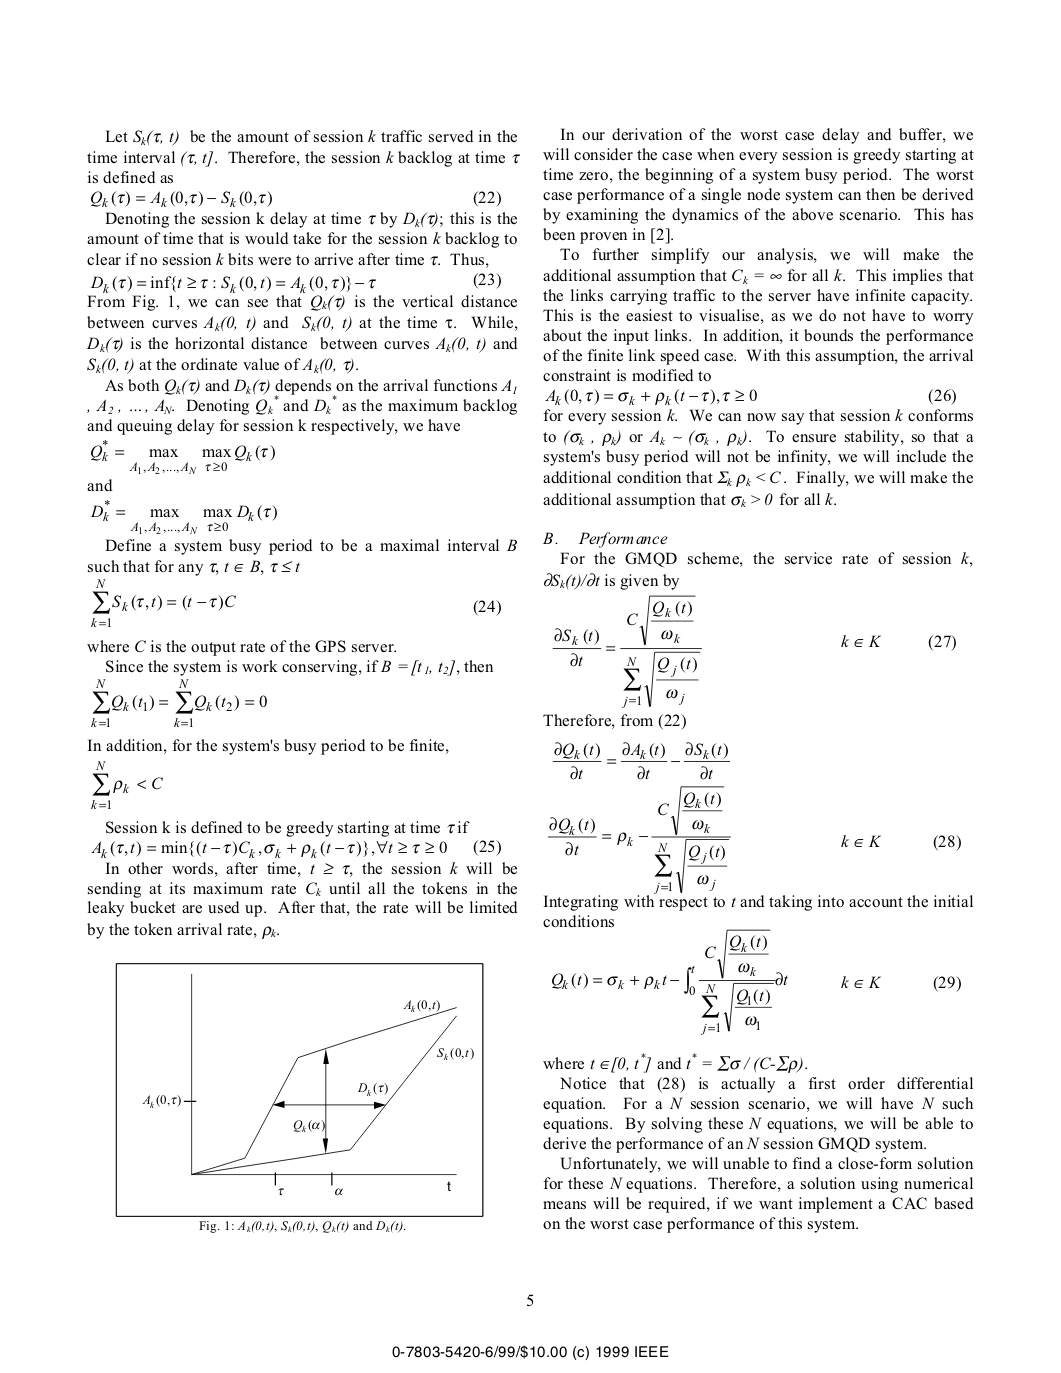figure: (115, 962, 483, 1217)
formula: (552, 594, 955, 708), (548, 786, 960, 893), (552, 932, 960, 1034), (91, 580, 500, 626), (91, 679, 266, 726), (90, 273, 500, 292), (91, 189, 500, 207), (552, 741, 729, 780), (545, 388, 955, 405), (90, 499, 276, 534), (91, 439, 274, 474), (91, 761, 162, 808)
